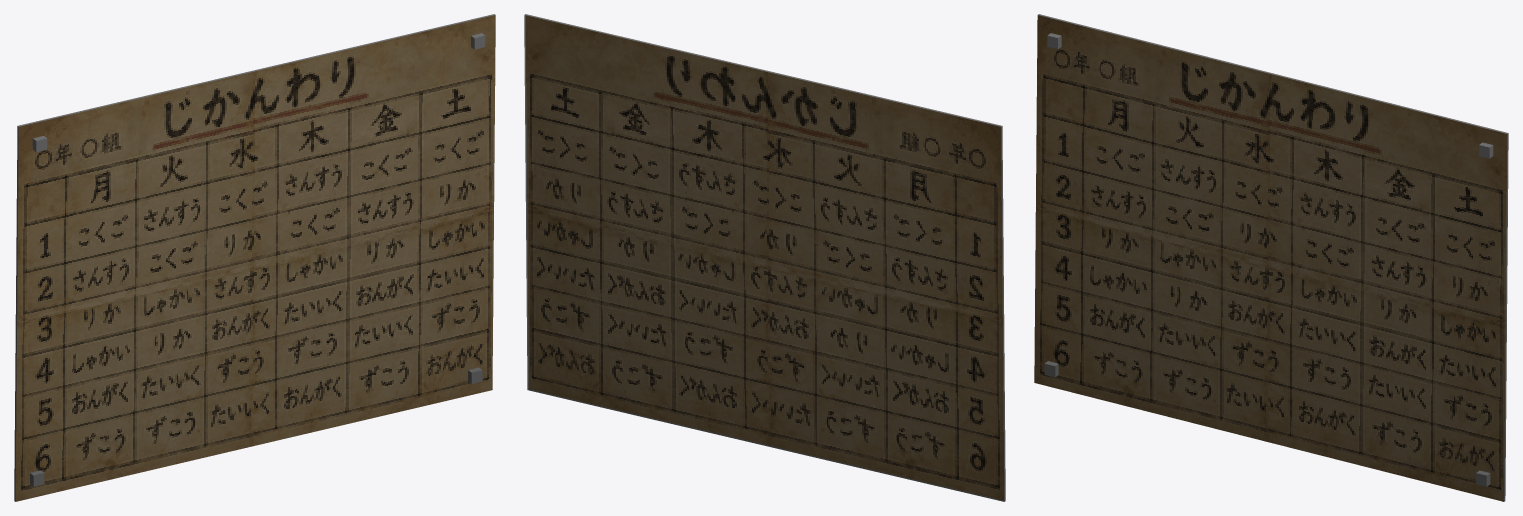
The model's file is prop_poster-jikanwari-3.glb.
3 renders of one model, left to right at view 1: azimuth 30°, elevation 25°; view 2: azimuth 150°, elevation 25°; view 3: azimuth 330°, elevation 25°, orthographic.
Parts seen in each view (by area): view 1: prop_poster-jikanwari-3; view 2: prop_poster-jikanwari-3; view 3: prop_poster-jikanwari-3.
Boxes of the visible parts, x1=… form: prop_poster-jikanwari-3: x1=14, y1=14, x2=495, y2=501; prop_poster-jikanwari-3: x1=524, y1=14, x2=1005, y2=501; prop_poster-jikanwari-3: x1=1034, y1=14, x2=1508, y2=501.
Size of the model in its own units: 0.6186 by 0.4664 by 0.0115.
2 materials, 2 textured.
